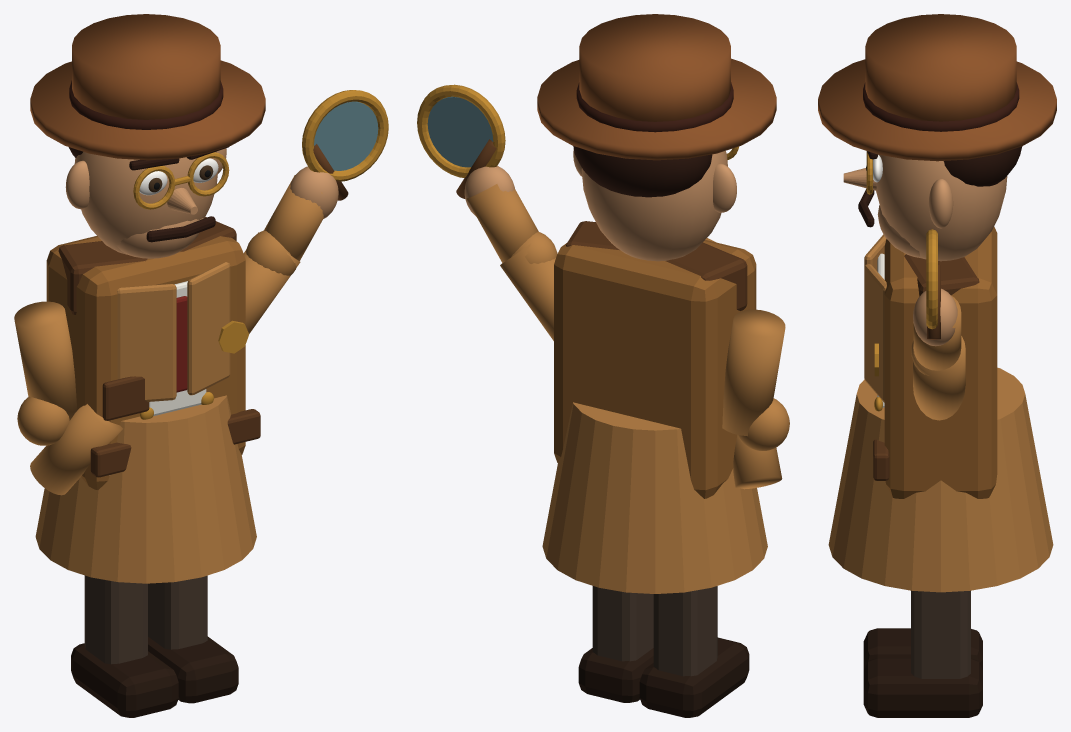
Rendered from detective.fbx.
3 views of the same model, side by side, from view 1: azimuth 30°, elevation 25°; view 2: azimuth 150°, elevation 25°; view 3: azimuth 270°, elevation 25° (orthographic).
Parts seen in each view (by area): view 1: Lower_Coat, Fedora_Crown, Torso, Fedora_Brim, Head, Left_Lapel, Left_Upper_Arm, Left_Shoe, Left_Leg, Right_Lapel, Left_Forearm, Right_Leg (+19 smaller); view 2: Torso, Lower_Coat, Fedora_Crown, Fedora_Brim, Head, Left_Upper_Arm, Left_Leg, Left_Shoe, Hair_Back, Right_Leg, Magnifying_Lens, Right_Forearm (+11 smaller); view 3: Lower_Coat, Torso, Fedora_Crown, Fedora_Brim, Head, Right_Shoe, Right_Leg, Right_Upper_Arm, Right_Lapel, Fedora_Band, Left_Shoe, Hair_Back (+9 smaller).
Part boxes in pixels (<box>): Lower_Coat: <box>35,395,256,583</box>; Fedora_Crown: <box>72,14,220,119</box>; Torso: <box>46,236,245,490</box>; Fedora_Brim: <box>30,60,265,160</box>; Head: <box>74,151,218,254</box>; Left_Lapel: <box>117,284,176,401</box>; Left_Upper_Arm: <box>14,301,77,420</box>; Left_Shoe: <box>71,643,178,717</box>; Left_Leg: <box>84,575,147,664</box>; Right_Lapel: <box>187,262,230,395</box>; Left_Forearm: <box>30,404,122,495</box>; Right_Leg: <box>148,575,207,649</box>; Torso: <box>554,240,756,498</box>; Lower_Coat: <box>542,402,767,593</box>; Fedora_Crown: <box>579,14,730,121</box>; Fedora_Brim: <box>537,58,776,160</box>; Head: <box>581,151,727,261</box>; Left_Upper_Arm: <box>722,309,785,436</box>; Left_Leg: <box>653,586,717,676</box>; Left_Shoe: <box>639,637,749,717</box>; Hair_Back: <box>573,146,712,197</box>; Right_Leg: <box>592,586,653,661</box>; Magnifying_Lens: <box>427,96,493,167</box>; Right_Forearm: <box>466,184,538,263</box>; Lower_Coat: <box>828,367,1053,592</box>; Torso: <box>884,226,997,498</box>; Fedora_Crown: <box>865,14,1016,121</box>; Fedora_Brim: <box>818,59,1056,161</box>; Head: <box>876,154,1007,261</box>; Right_Shoe: <box>863,658,982,717</box>; Right_Leg: <box>911,590,970,678</box>; Right_Upper_Arm: <box>913,336,965,420</box>; Right_Lapel: <box>864,264,886,402</box>; Fedora_Band: <box>863,82,1019,131</box>; Left_Shoe: <box>863,628,982,670</box>; Hair_Back: <box>943,146,1022,186</box>.
Size of what is drawn, in the model's own units: 243 by 407 by 136.
